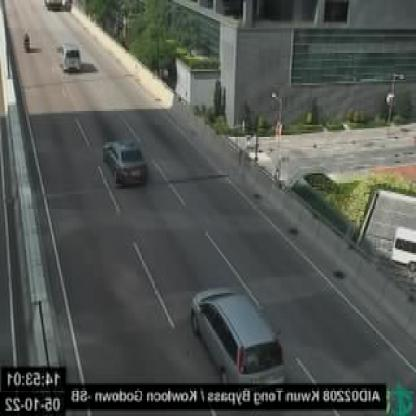Car: (191, 289, 285, 385), (102, 138, 146, 186), (60, 42, 82, 69)
